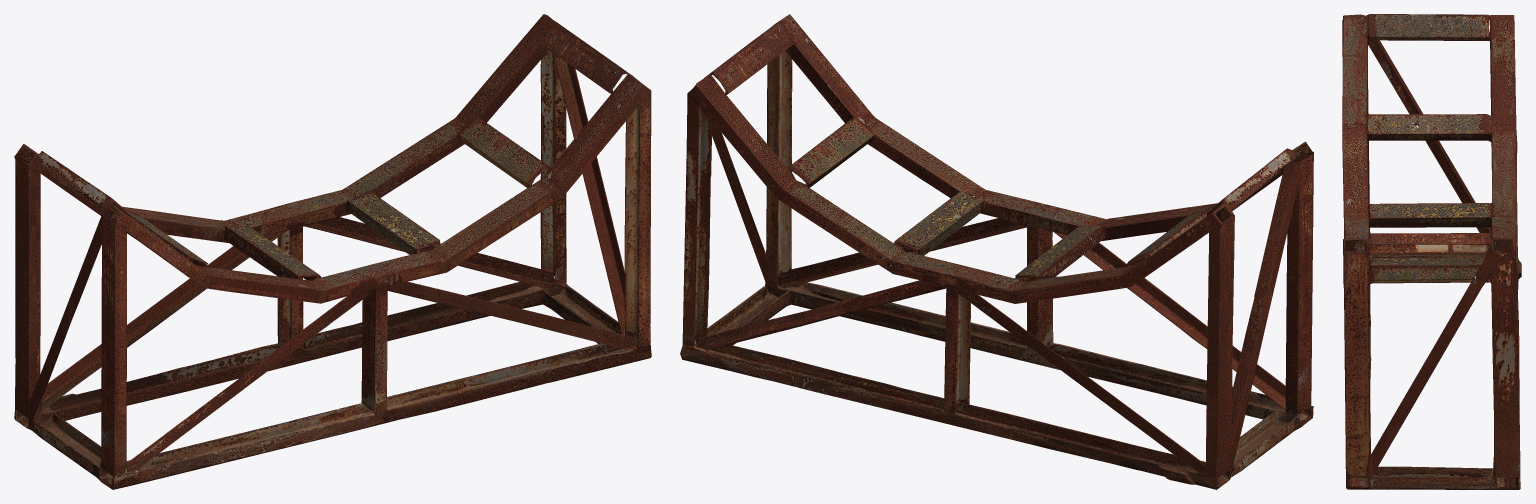
File: SM_Ind_Jun_Support_Stand_Metal_Rusty_01.gltf
The picture shows the model from 3 angles, left to right: view 1: azimuth 30°, elevation 25°; view 2: azimuth 150°, elevation 25°; view 3: azimuth 270°, elevation 25°; orthographic projection. The views are drawn at different scales.
Parts seen in each view (by area): view 1: SM_Ind_Jun_Support_Stand_Metal_Rusty_01; view 2: SM_Ind_Jun_Support_Stand_Metal_Rusty_01; view 3: SM_Ind_Jun_Support_Stand_Metal_Rusty_01.
Boxes of the visible parts, left/top/right/bottom form: SM_Ind_Jun_Support_Stand_Metal_Rusty_01: left=14, top=14, right=651, bottom=489; SM_Ind_Jun_Support_Stand_Metal_Rusty_01: left=680, top=14, right=1313, bottom=489; SM_Ind_Jun_Support_Stand_Metal_Rusty_01: left=1342, top=14, right=1521, bottom=489.
Bounding box in the file's own units: 2.26 × 1.13 × 0.7316.
1 material, 1 textured.
